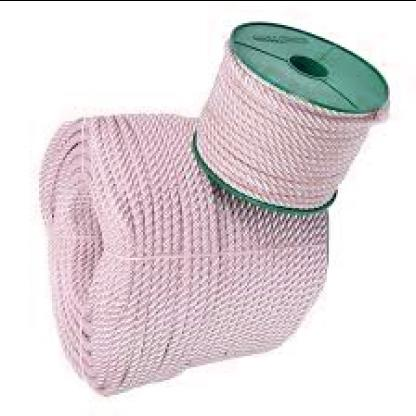Rope: (31, 107, 339, 399), (180, 13, 396, 222)
